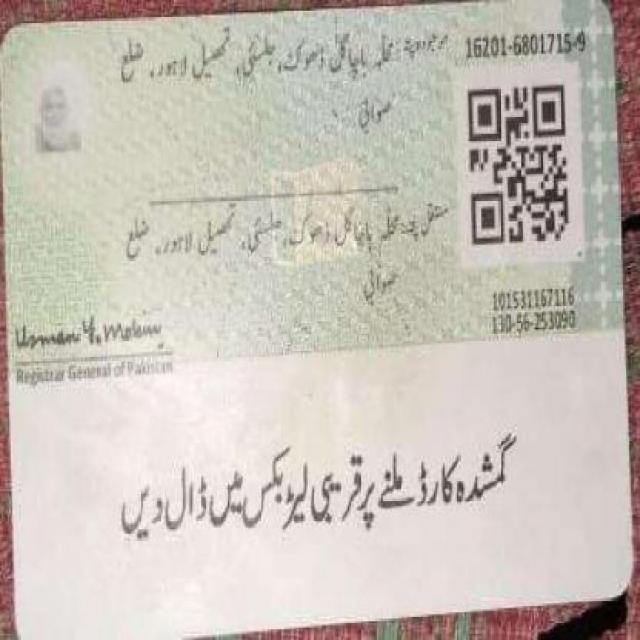Back: (11, 9, 623, 618)
